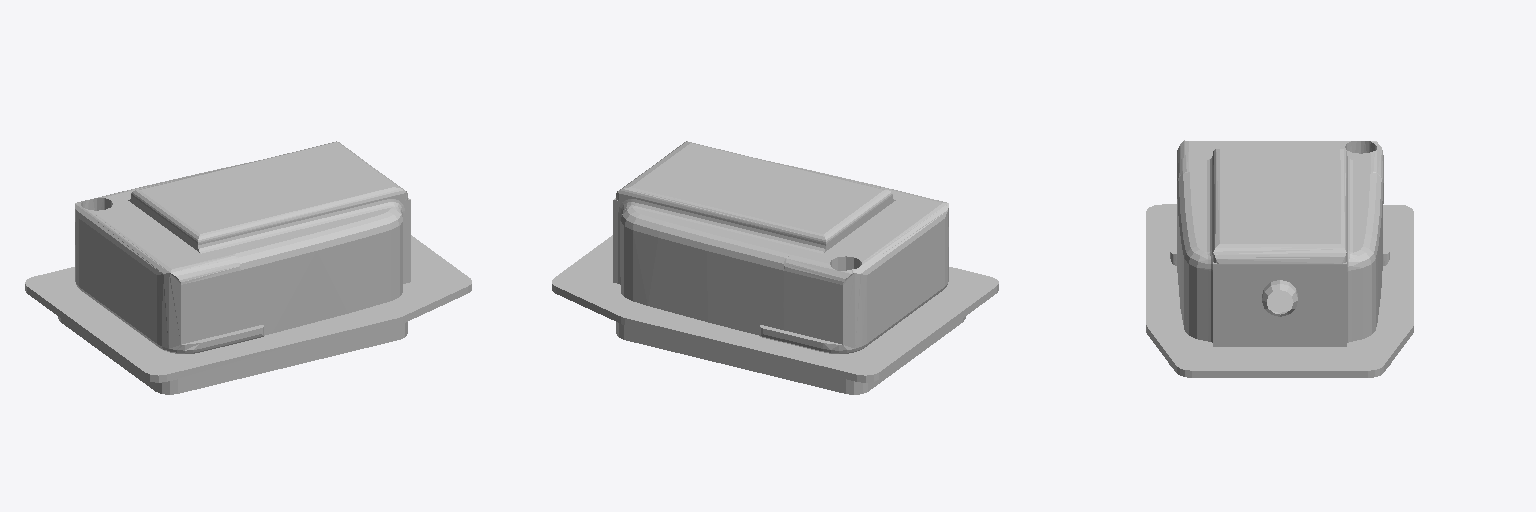
File: main insertion link simple.OBJ
3 renders of one model, left to right at view 1: azimuth 30°, elevation 25°; view 2: azimuth 150°, elevation 25°; view 3: azimuth 270°, elevation 25°, orthographic.
Visible parts, largest first — view 1: /ambf/env/psm1/main_insertion_link_simple_main_insertion_link; view 2: /ambf/env/psm1/main_insertion_link_simple_main_insertion_link; view 3: /ambf/env/psm1/main_insertion_link_simple_main_insertion_link.
Boxes of the visible parts, box(x1,y1,x2,y2) form: /ambf/env/psm1/main_insertion_link_simple_main_insertion_link: box(25, 141, 471, 394); /ambf/env/psm1/main_insertion_link_simple_main_insertion_link: box(552, 141, 998, 394); /ambf/env/psm1/main_insertion_link_simple_main_insertion_link: box(1146, 140, 1413, 377).
Bounding box in the file's own units: 0.122 × 0.0444 × 0.083.